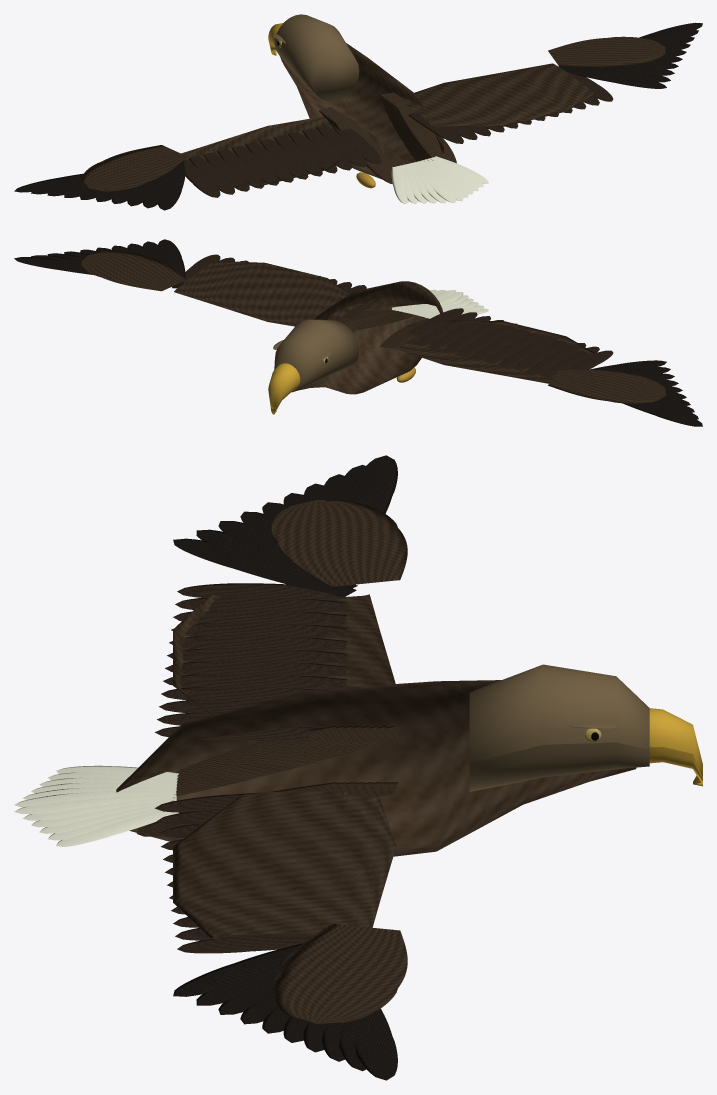
The model's file is white_tailed_eagle.glb.
3 views of the same model, one above another, from view 1: azimuth 30°, elevation 25°; view 2: azimuth 150°, elevation 25°; view 3: azimuth 270°, elevation 25° (orthographic). The views are drawn at different scales.
Visible parts, largest first — view 1: CoastalGullMesh, LeftWingMesh, RightWingMesh, LeftWingTipMesh, RightWingTipMesh, FoldedWingsMesh; view 2: CoastalGullMesh, LeftWingMesh, RightWingMesh, LeftWingTipMesh, RightWingTipMesh, FoldedWingsMesh; view 3: CoastalGullMesh, RightWingMesh, LeftWingMesh, RightWingTipMesh, LeftWingTipMesh, FoldedWingsMesh.
Part boxes in pixels (x1,y1,x2,y2): CoastalGullMesh: (268,14,488,203); LeftWingMesh: (181,116,381,197); RightWingMesh: (401,63,613,143); LeftWingTipMesh: (14,145,186,210); RightWingTipMesh: (548,22,702,88); FoldedWingsMesh: (319,92,456,183); CoastalGullMesh: (268,281,488,414); LeftWingMesh: (395,308,613,383); RightWingMesh: (174,254,376,326); LeftWingTipMesh: (548,360,702,426); RightWingTipMesh: (14,239,186,291); FoldedWingsMesh: (334,310,429,348); CoastalGullMesh: (14,664,702,856); RightWingMesh: (155,791,396,953); LeftWingMesh: (155,583,395,740); RightWingTipMesh: (173,923,407,1080); LeftWingTipMesh: (173,455,407,596); FoldedWingsMesh: (136,726,398,836).
Size of the model in its own units: 2.22 by 0.3258 by 1.03.
Materials: 1 (1 with a texture image).
